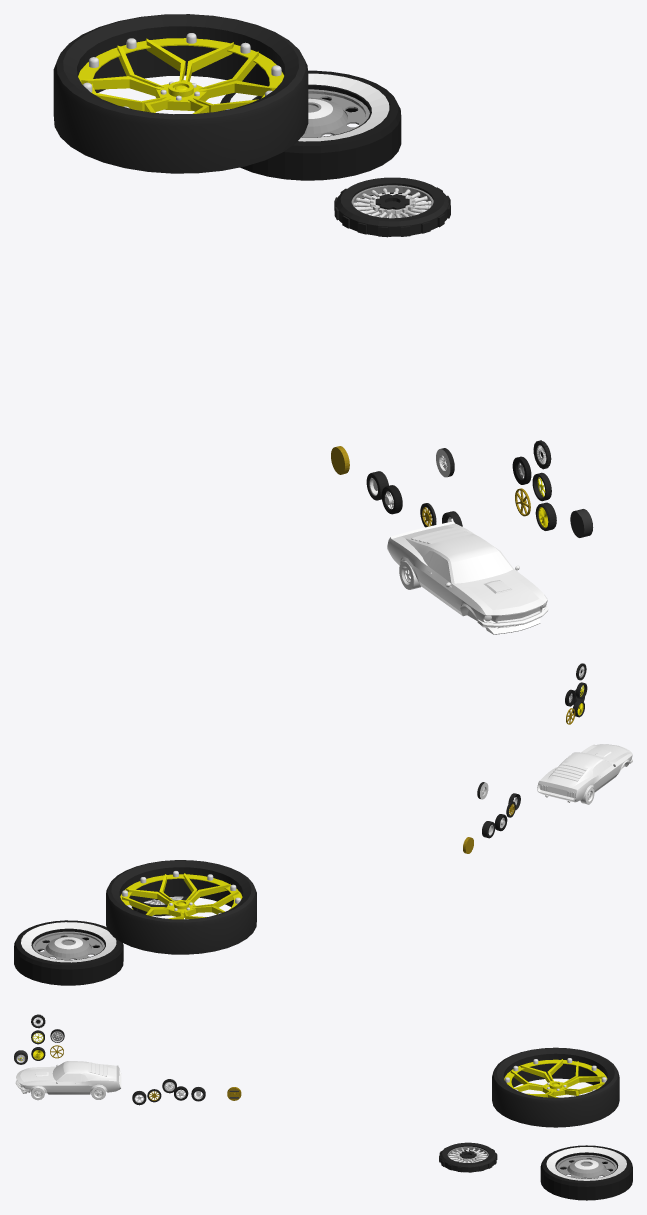
File: колесо7.fbx
The picture shows the model from 3 angles, top to bottom: view 1: azimuth 30°, elevation 25°; view 2: azimuth 150°, elevation 25°; view 3: azimuth 270°, elevation 25°; orthographic projection. The views are drawn at different scales.
Visible parts, largest first — view 1: Circle.016, Body, Circle.017, Circle.018, Circle.015, Circle.013, Circle.005, Circle.011, Circle.010, Circle.009, Circle.006; view 2: Circle.016, Circle.017, Body, Circle.005, Circle.015, Circle.006, Circle.010, Circle.012; view 3: Circle.016, Circle.017, Body, Circle.018, Circle.005, Circle.015, Circle.006, Circle.009, Circle.012.
Boxes of the visible parts, bbox=[...] form: Circle.016: bbox=[53, 14, 308, 173]; Body: bbox=[387, 521, 548, 634]; Circle.017: bbox=[220, 70, 401, 180]; Circle.018: bbox=[334, 177, 450, 237]; Circle.015: bbox=[78, 38, 283, 98]; Circle.013: bbox=[81, 76, 166, 111]; Circle.005: bbox=[304, 97, 347, 133]; Circle.011: bbox=[193, 80, 275, 112]; Circle.010: bbox=[185, 42, 258, 89]; Circle.009: bbox=[117, 38, 185, 87]; Circle.006: bbox=[302, 93, 365, 137]; Circle.016: bbox=[106, 860, 256, 954]; Circle.017: bbox=[14, 920, 123, 985]; Body: bbox=[537, 744, 632, 802]; Circle.005: bbox=[45, 936, 91, 957]; Circle.015: bbox=[120, 874, 242, 909]; Circle.006: bbox=[35, 934, 102, 959]; Circle.010: bbox=[122, 889, 172, 911]; Circle.012: bbox=[188, 884, 238, 907]; Circle.016: bbox=[492, 1047, 619, 1127]; Circle.017: bbox=[540, 1145, 632, 1200]; Body: bbox=[15, 1061, 121, 1094]; Circle.018: bbox=[439, 1142, 497, 1172]; Circle.005: bbox=[567, 1159, 605, 1177]; Circle.015: bbox=[504, 1059, 607, 1089]; Circle.006: bbox=[558, 1157, 614, 1178]; Circle.009: bbox=[564, 1076, 604, 1094]; Circle.012: bbox=[510, 1065, 550, 1086].
Size of the model in its own units: 1397 by 504 by 3168.
